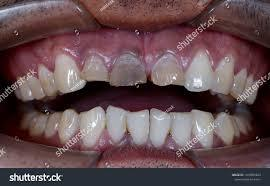Discoloration: (111, 43, 146, 87), (79, 49, 112, 87)
